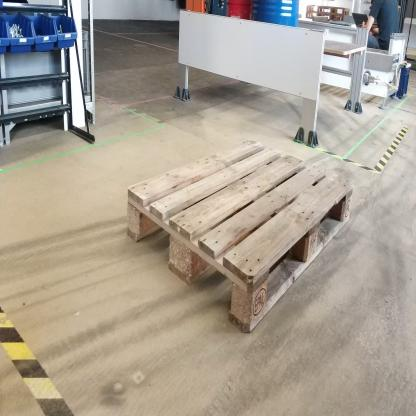BoxFace: (125, 132, 357, 344)
